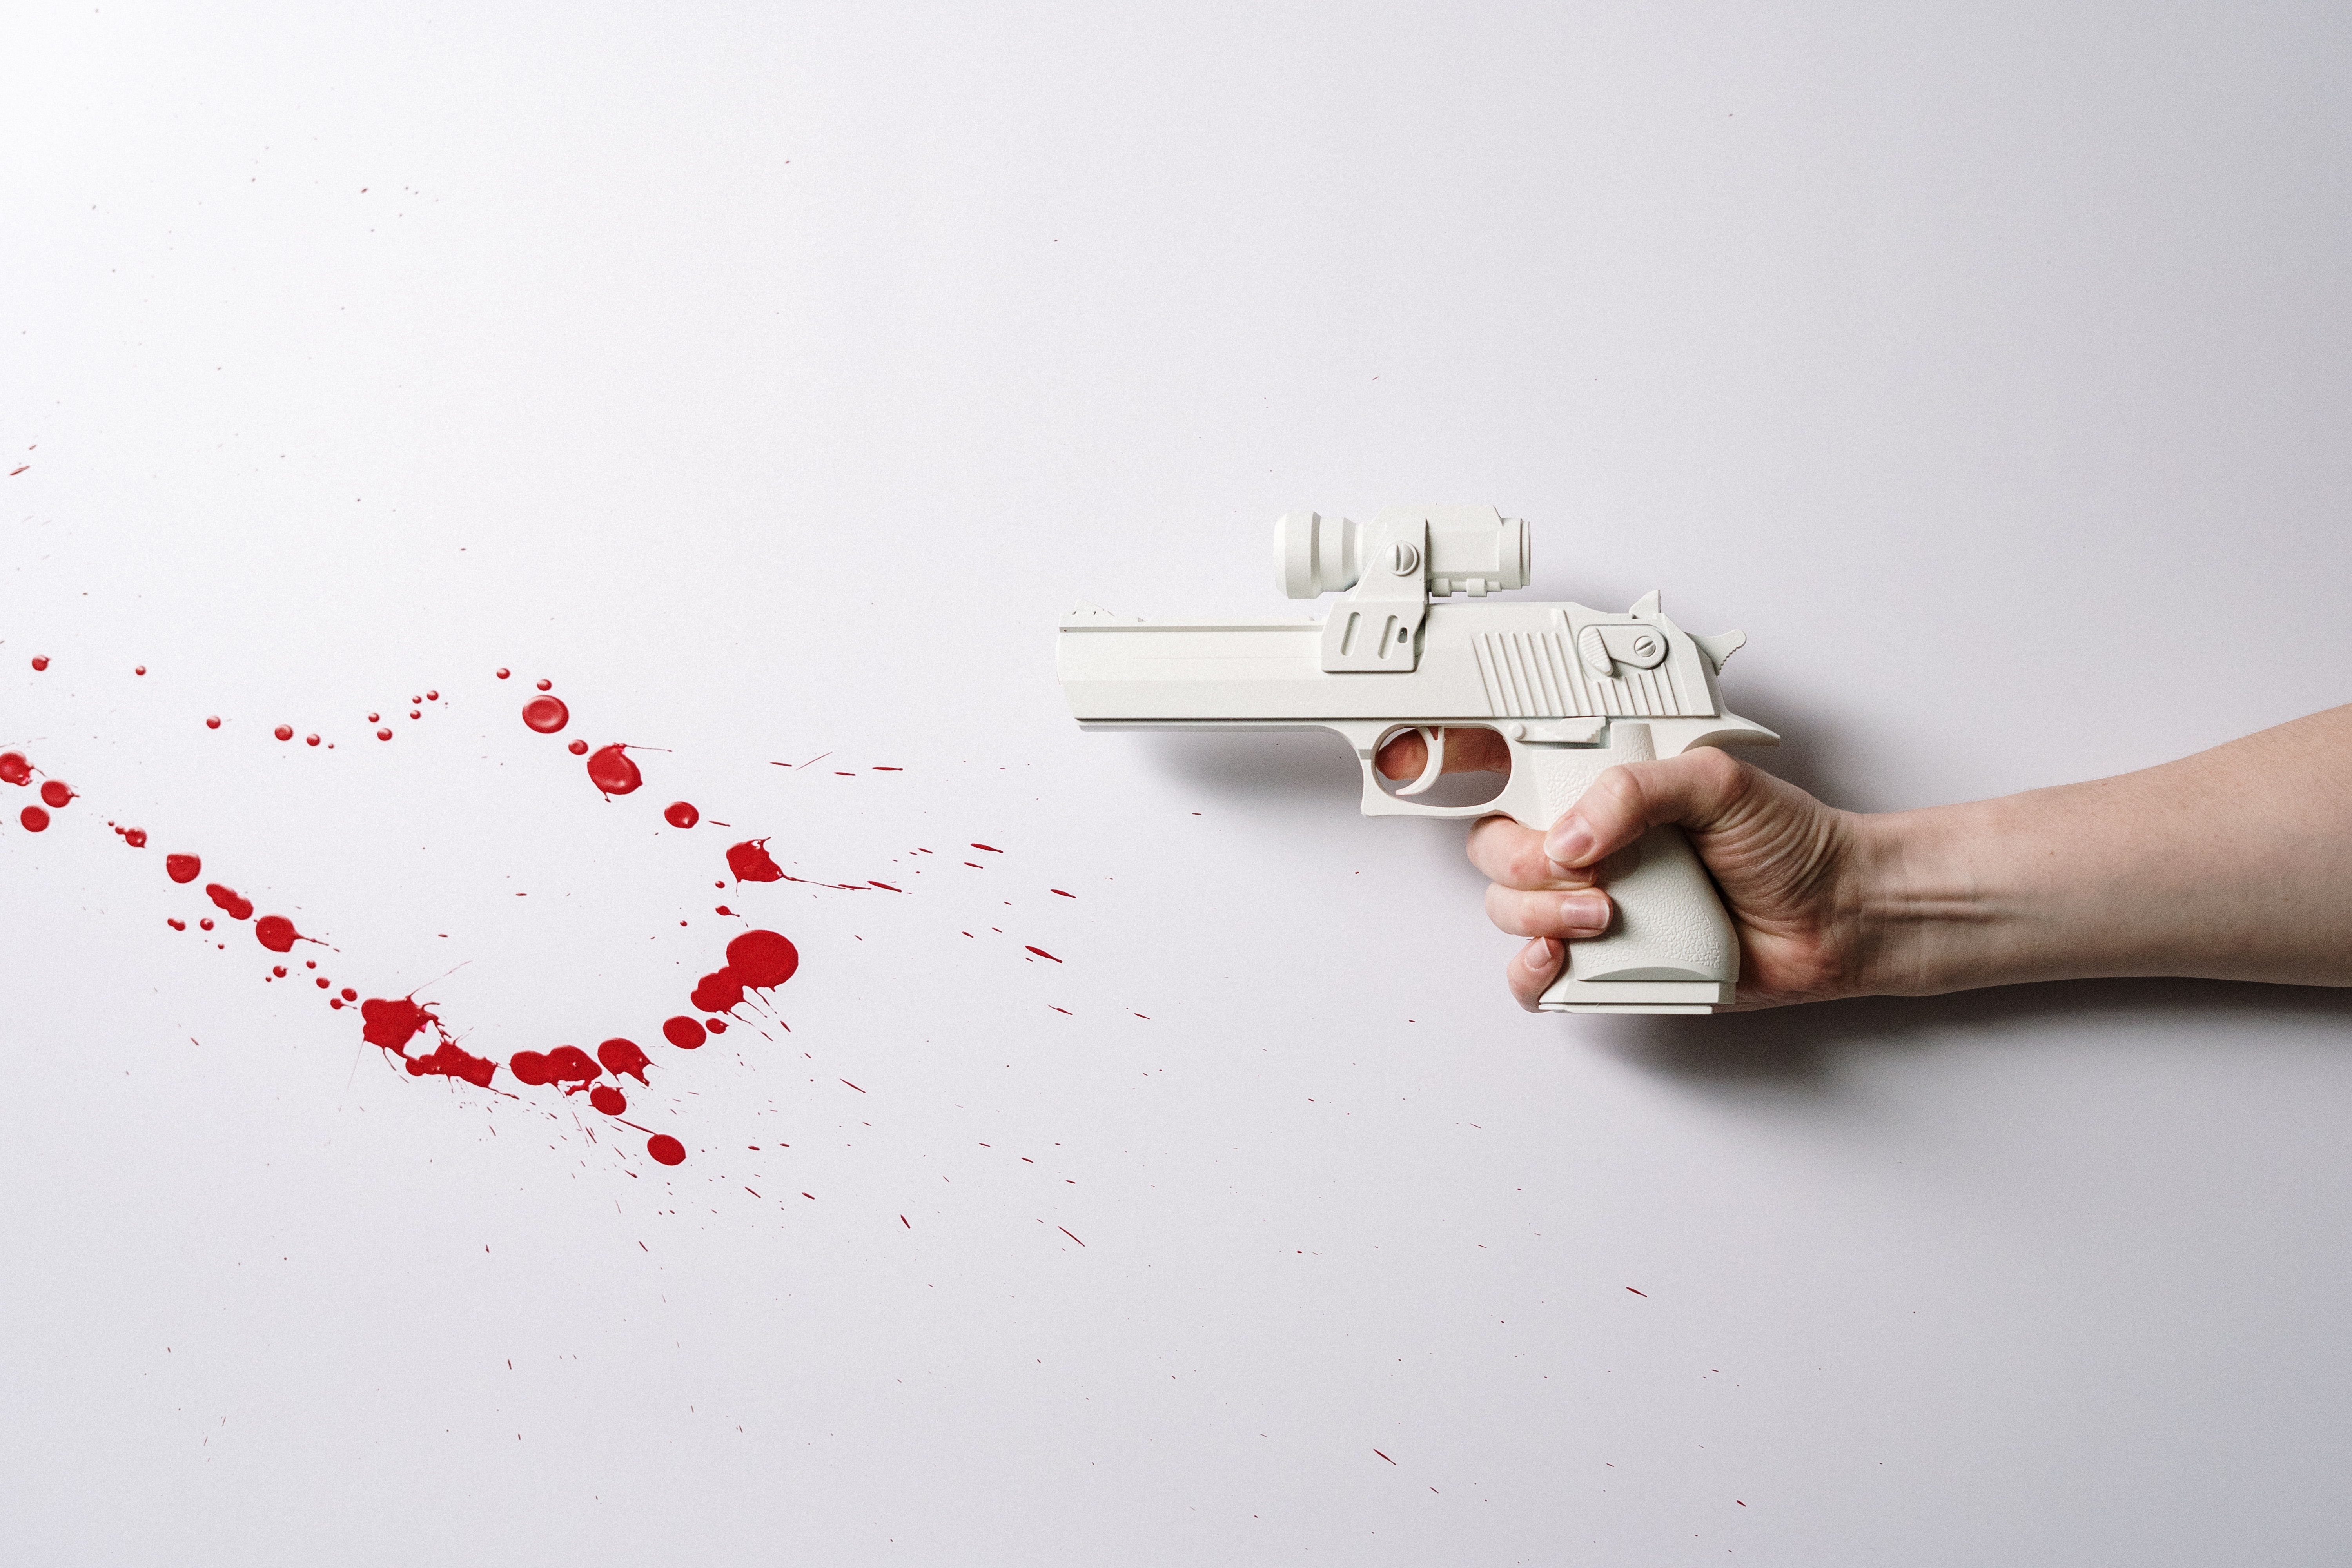blood: (0, 651, 803, 1176)
